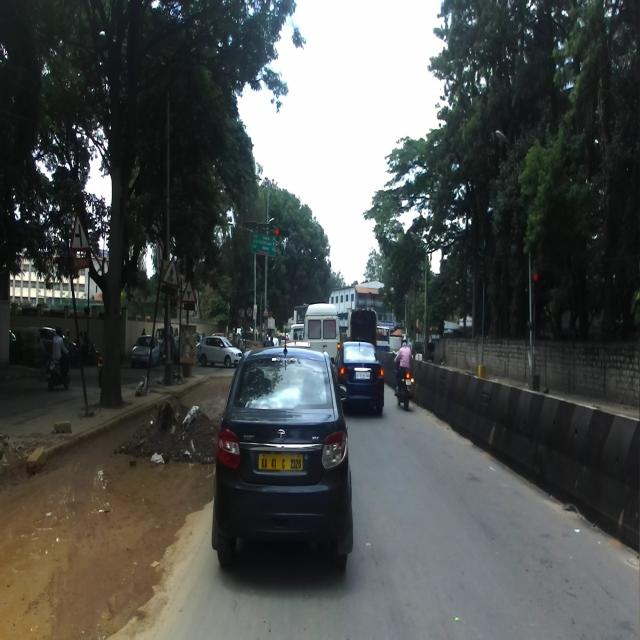car: (211, 327, 353, 577), (330, 338, 382, 416), (198, 335, 242, 367), (131, 332, 160, 364)
motorcycle: (392, 358, 414, 407)
scooter: (46, 348, 72, 391)
